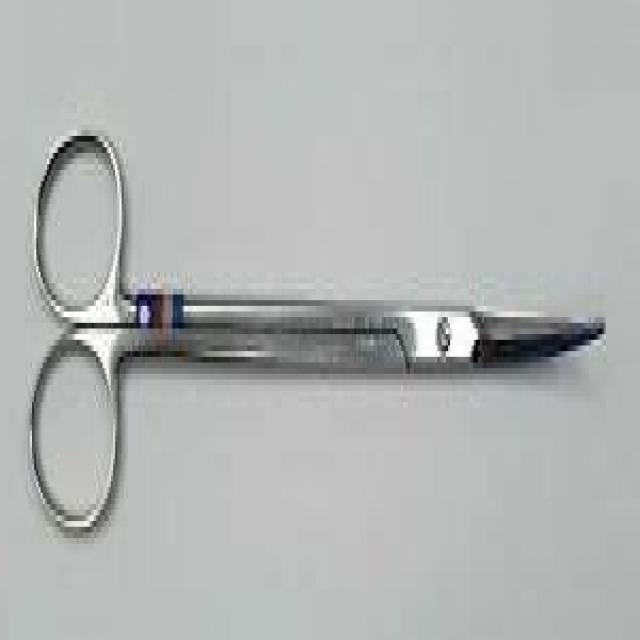Mayo_metz: (23, 113, 608, 555)
